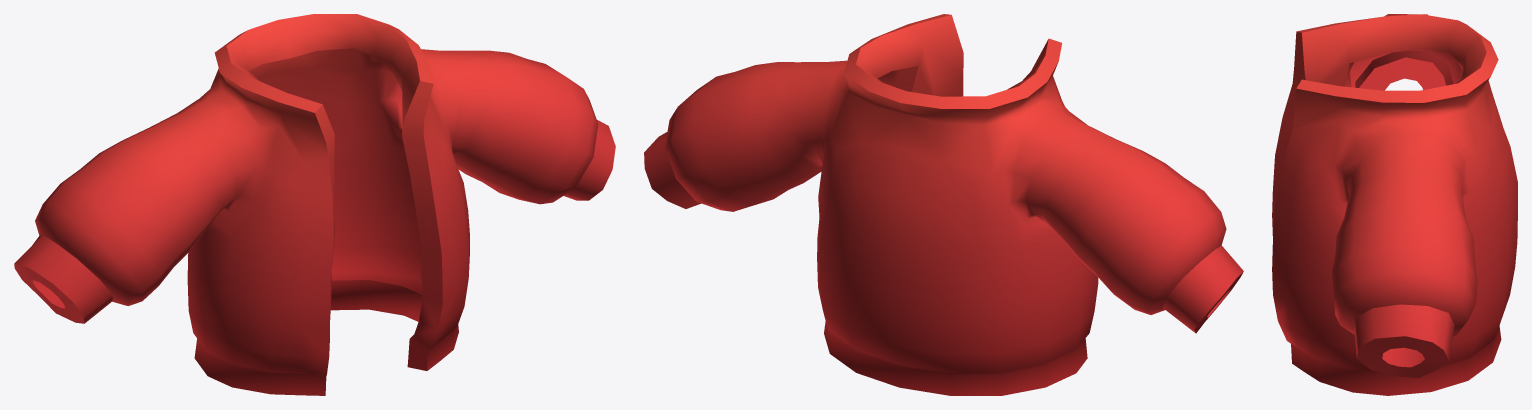
File: Outwear_01.glb
3 views of the same model, side by side, from view 1: azimuth 30°, elevation 25°; view 2: azimuth 150°, elevation 25°; view 3: azimuth 270°, elevation 25° (orthographic).
Visible parts, largest first — view 1: Outwear_01; view 2: Outwear_01; view 3: Outwear_01.
Part boxes in pixels (x1=…): Outwear_01: x1=14, y1=14, x2=615, y2=395; Outwear_01: x1=644, y1=14, x2=1243, y2=395; Outwear_01: x1=1272, y1=14, x2=1517, y2=395.
Size of the model in its own units: 0.6532 by 0.3175 by 0.2427.
Materials: 1 (1 with a texture image).
